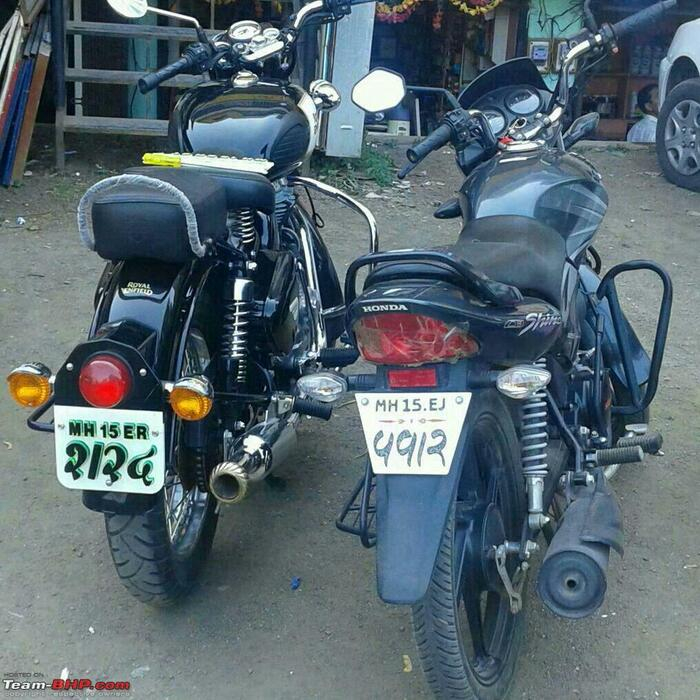n: (349, 389, 471, 490), (48, 402, 167, 499)
